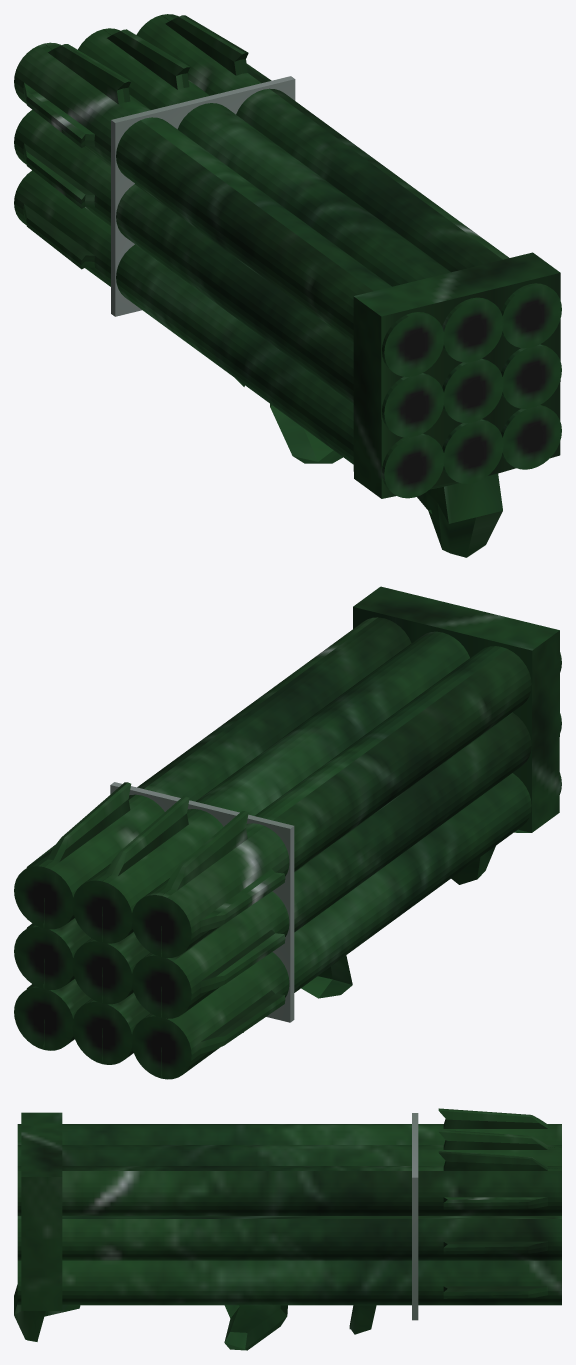
File: rocketlauncher.fbx
The picture shows the model from 3 angles, top to bottom: view 1: azimuth 30°, elevation 25°; view 2: azimuth 150°, elevation 25°; view 3: azimuth 270°, elevation 25°; orthographic projection. The views are drawn at different scales.
Parts seen in each view (by area): view 1: Cylinder.009; view 2: Cylinder.009; view 3: Cylinder.009.
Boxes of the visible parts, bbox=[...] form: Cylinder.009: bbox=[14, 14, 561, 557]; Cylinder.009: bbox=[14, 586, 561, 1079]; Cylinder.009: bbox=[14, 1108, 561, 1350].
Bounding box in the file's own units: 139 × 193 × 439.
